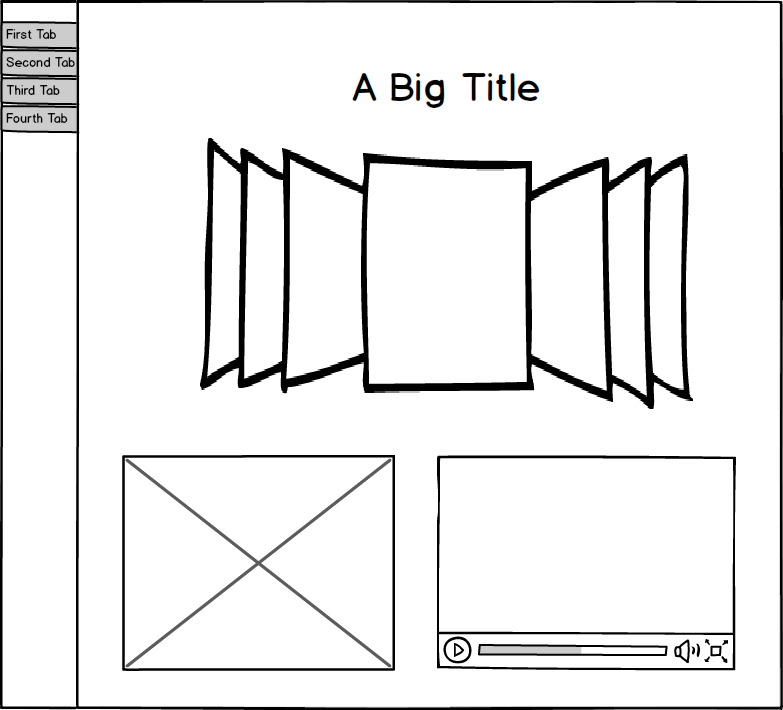h1: (342, 60, 549, 116)
image: (118, 451, 399, 675)
sidebar: (1, 15, 83, 138)
slideshow: (193, 131, 702, 412)
video: (431, 450, 745, 676)
